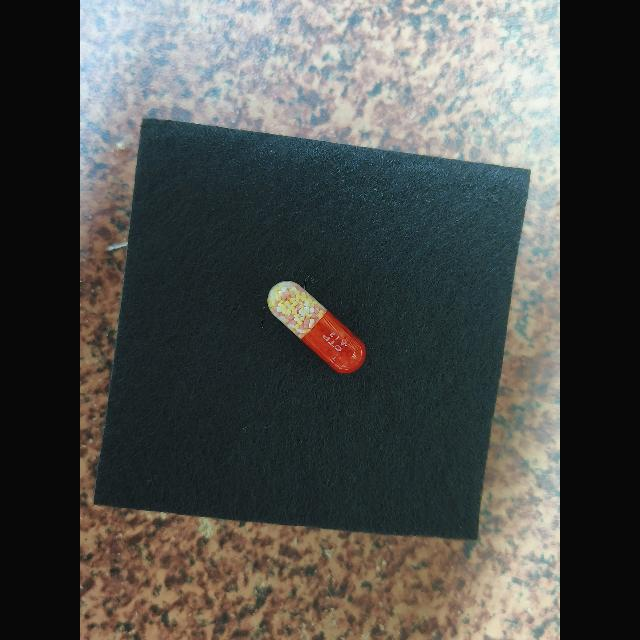Intact Capsule: (268, 281, 367, 374)
